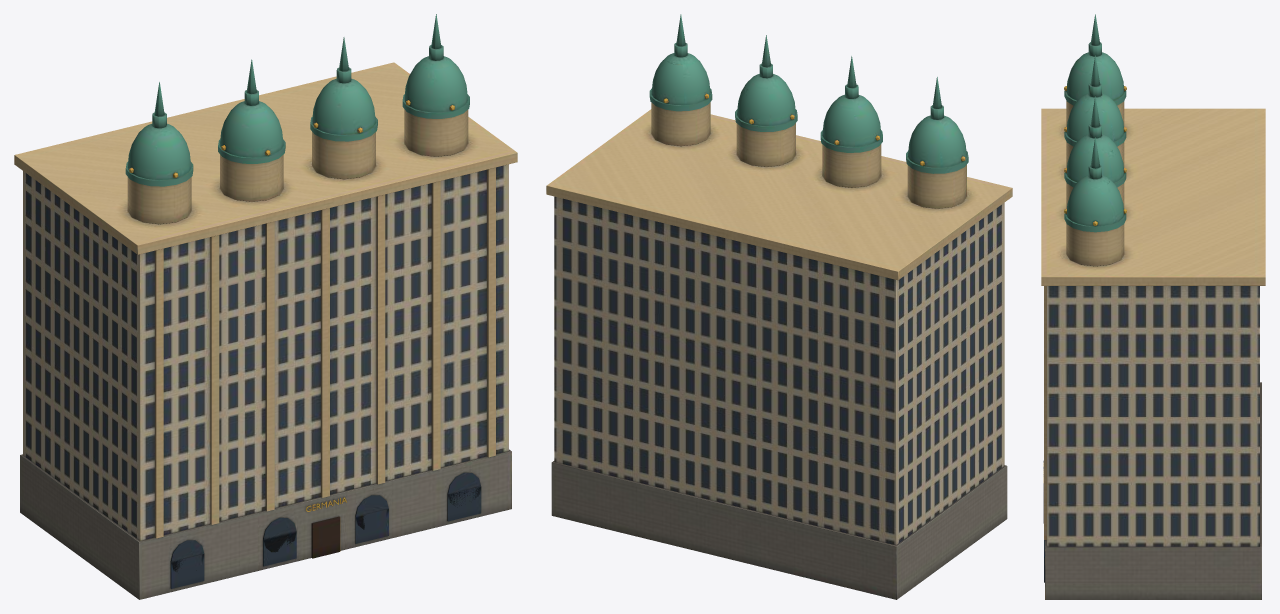
The model's file is germania.glb.
3 views of the same model, side by side, from view 1: azimuth 30°, elevation 25°; view 2: azimuth 150°, elevation 25°; view 3: azimuth 270°, elevation 25° (orthographic). The views are drawn at different scales.
Parts seen in each view (by area): view 1: germania; view 2: germania; view 3: germania.
Boxes of the visible parts, x1,y1,x2,y2 form: germania: [14, 14, 517, 599]; germania: [546, 14, 1012, 599]; germania: [1041, 14, 1265, 599].
Bounding box in the file's own units: 41.2 × 50.4 × 23.2.
1 material, 1 textured.
